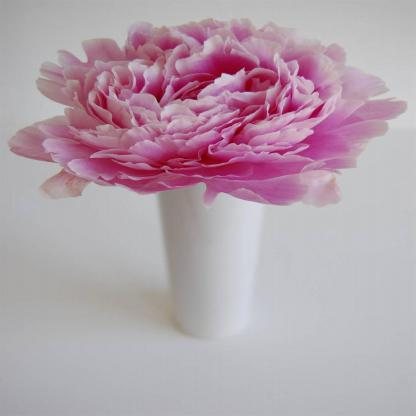vase: (156, 180, 265, 338)
